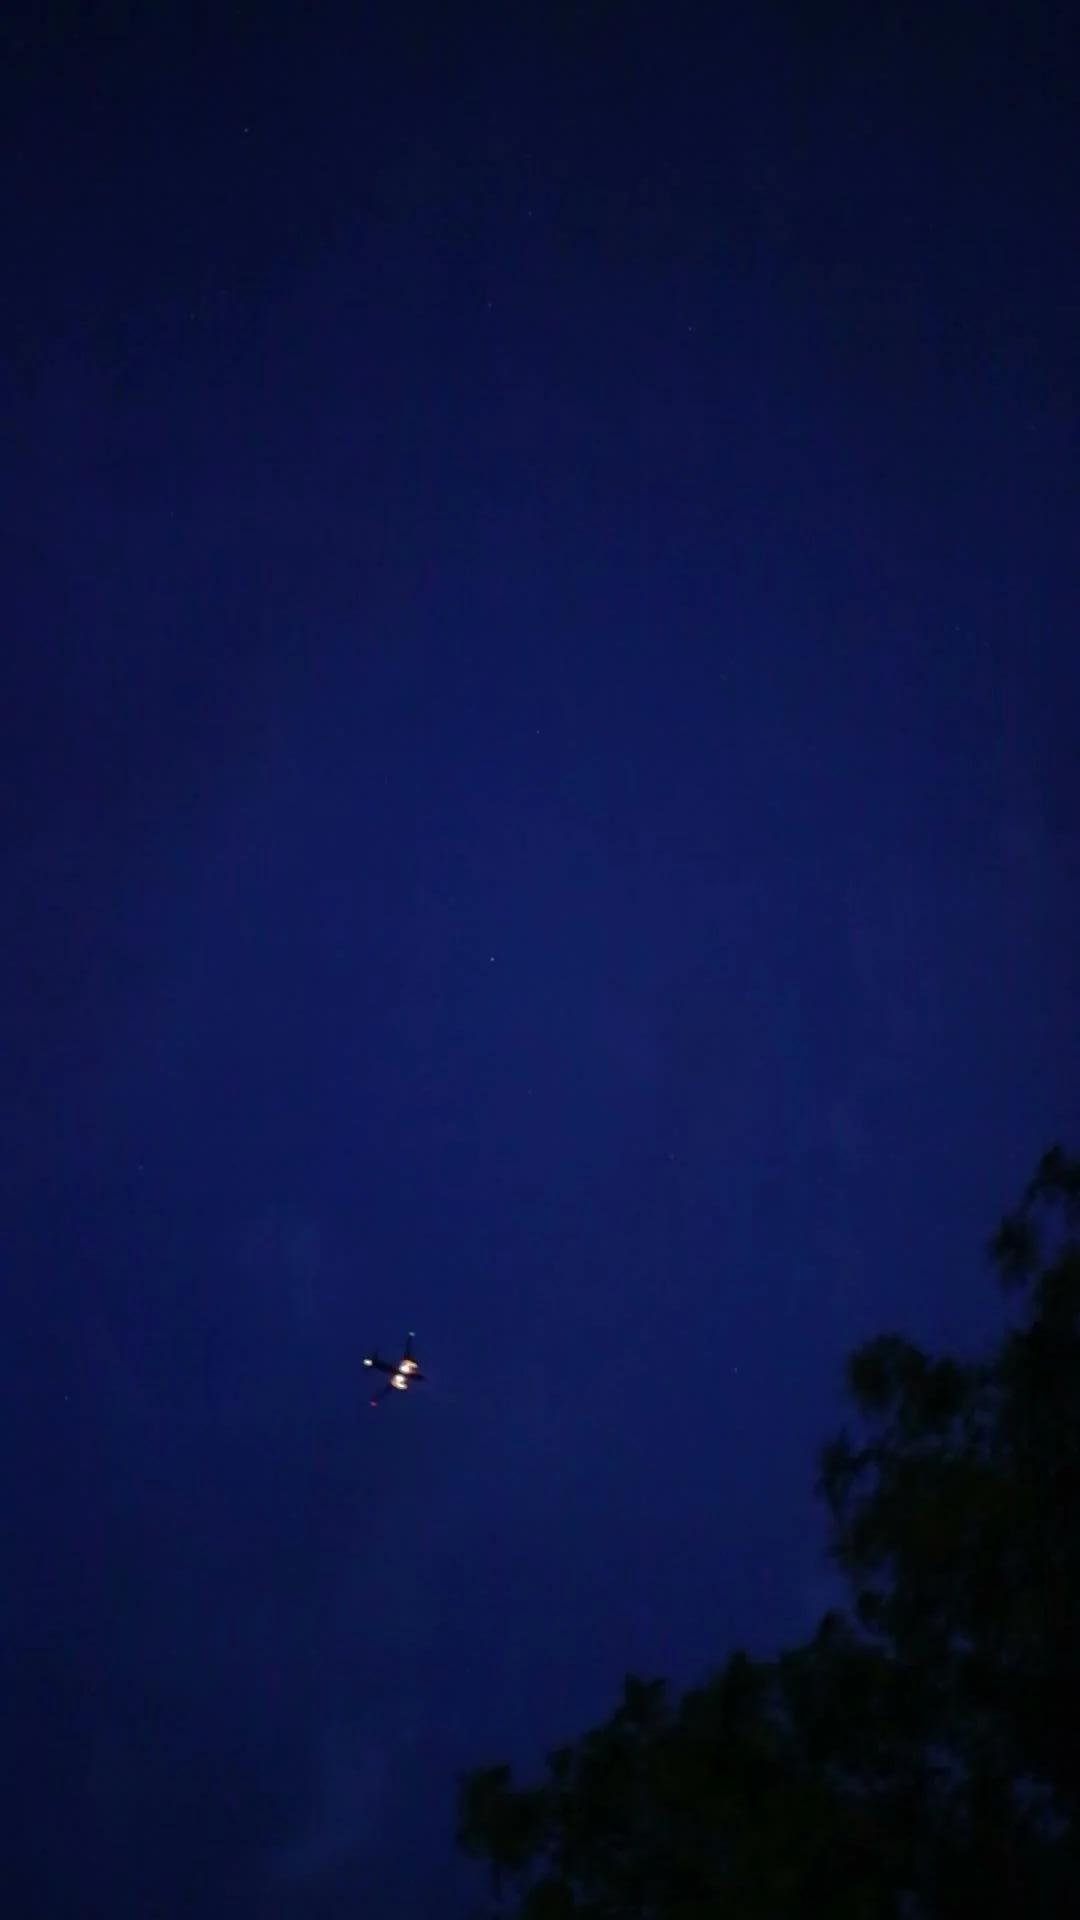Plane: (348, 1323, 440, 1419)
